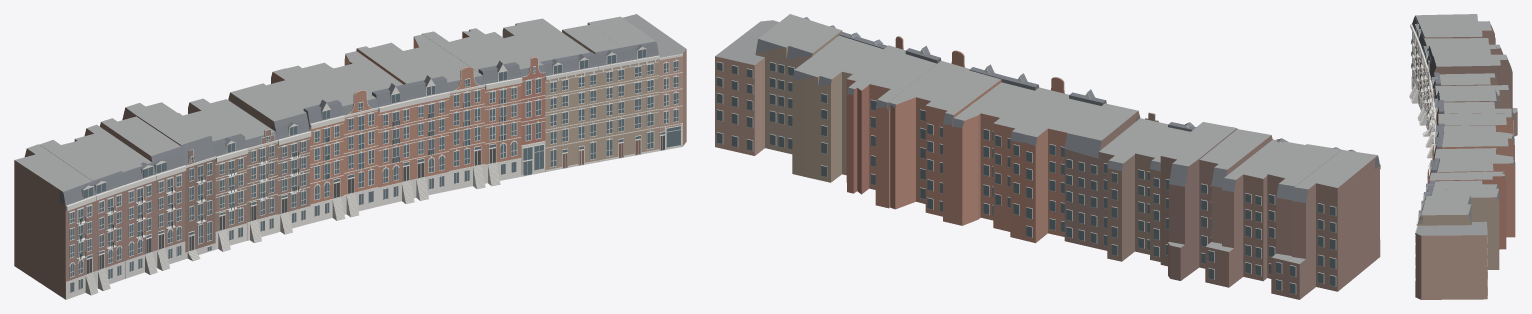
File: chunk-face-nassau-162289.glb
3 views of the same model, side by side, from view 1: azimuth 30°, elevation 25°; view 2: azimuth 150°, elevation 25°; view 3: azimuth 270°, elevation 25° (orthographic). The views are drawn at different scales.
Visible parts, largest first — view 1: face-nassau-162289; view 2: face-nassau-162289; view 3: face-nassau-162289.
Part boxes in pixels (x1,y1,x2,y2): face-nassau-162289: [14, 14, 686, 299]; face-nassau-162289: [715, 14, 1380, 299]; face-nassau-162289: [1409, 14, 1517, 299].
Bounding box in the file's own units: 116 × 21.1 × 24.95.
